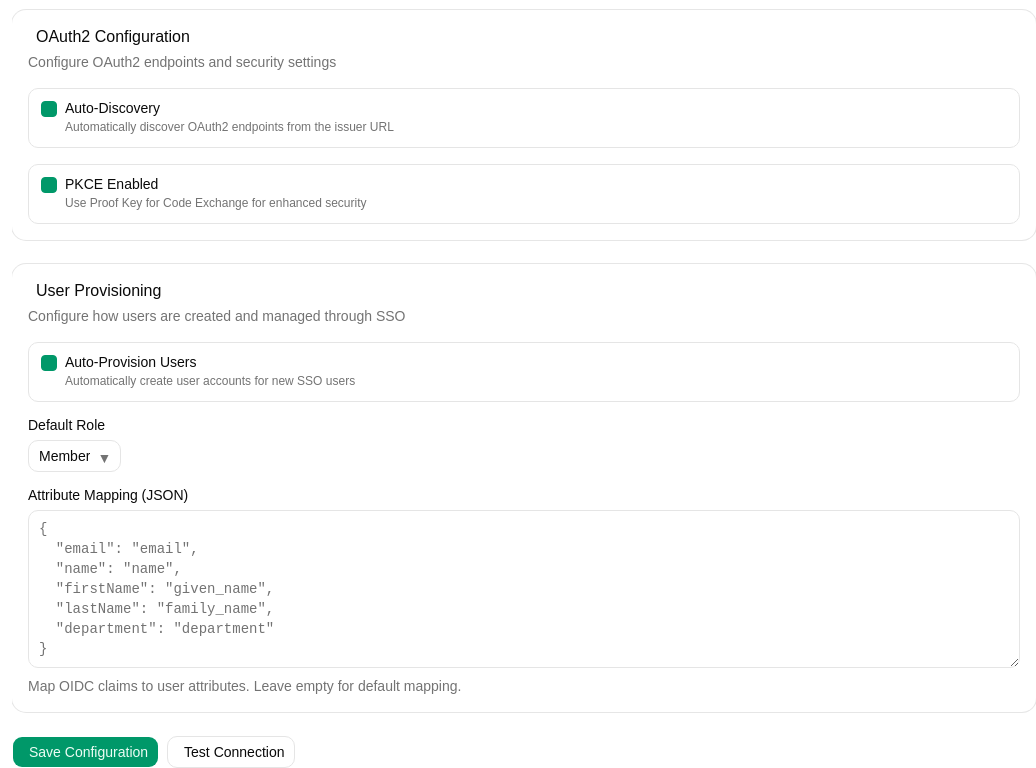
Test: SSOConfigurationForm › handles attribute mapping textarea
(page scrolled)
# Use paste instead of type to avoid issues with special characters
Click the text box labelled "Attribute Mapping (JSON)": (524, 589) [28,510,1020,668]
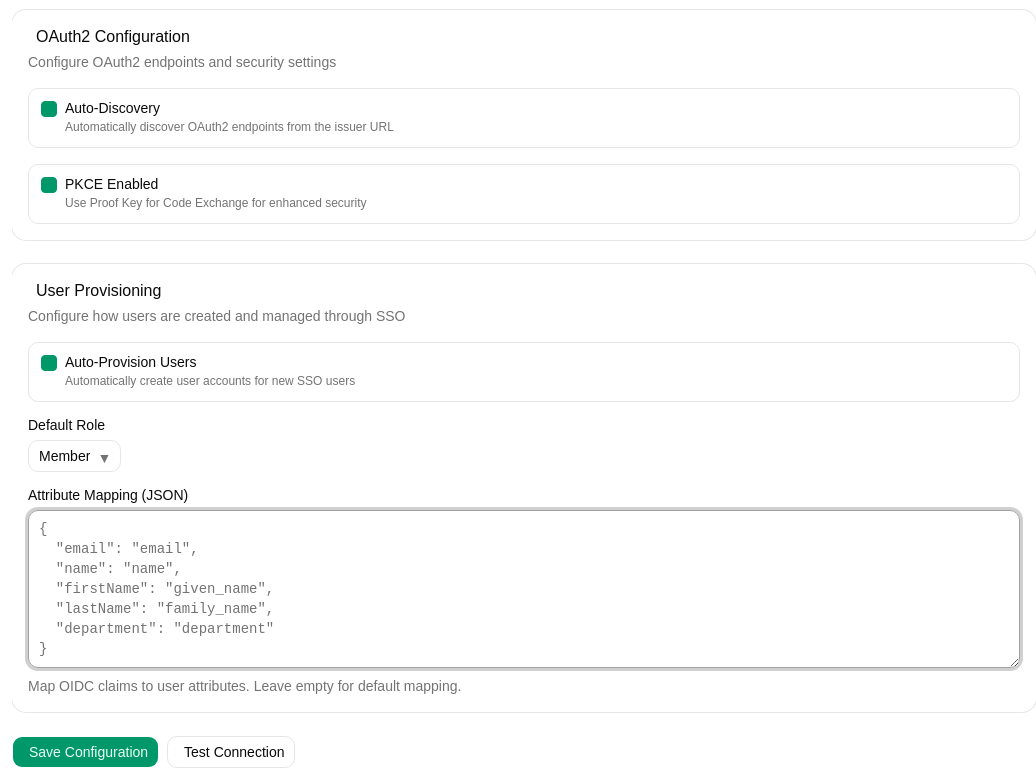
Type keys "{\"email\": \"email\", \"name\": \"name\"}"
(page scrolled)
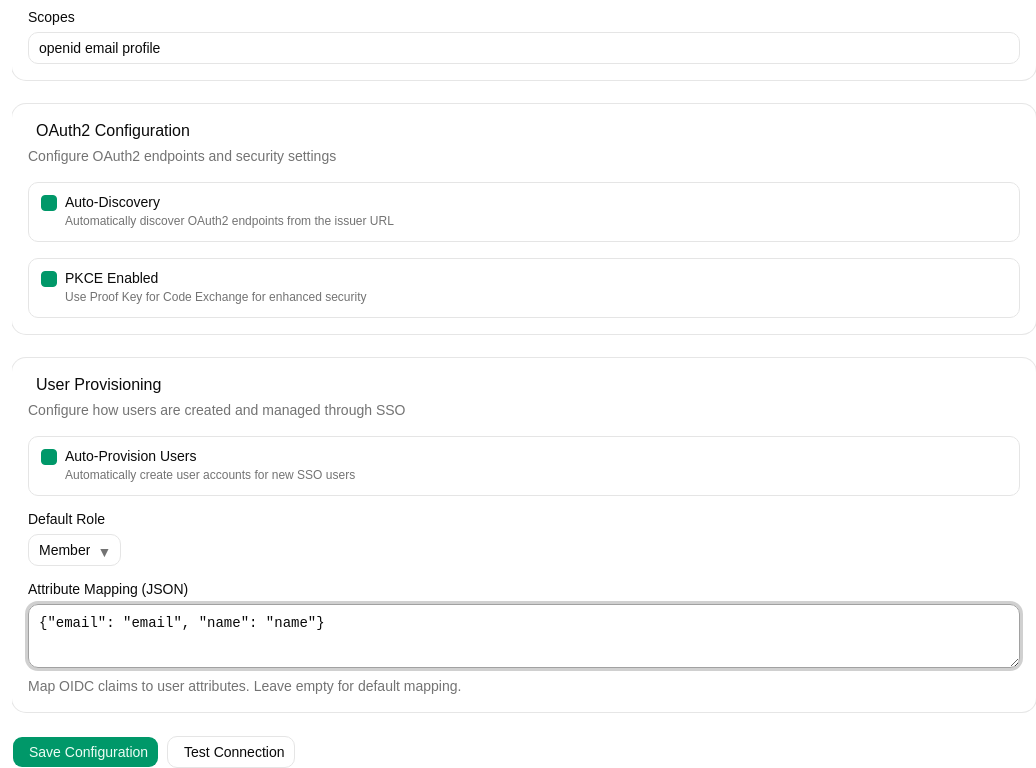
Now the text box labelled "Attribute Mapping (JSON)" holds "{\"email\": \"email\", \"name\": \"name\"}", box [28,604,1020,668]
